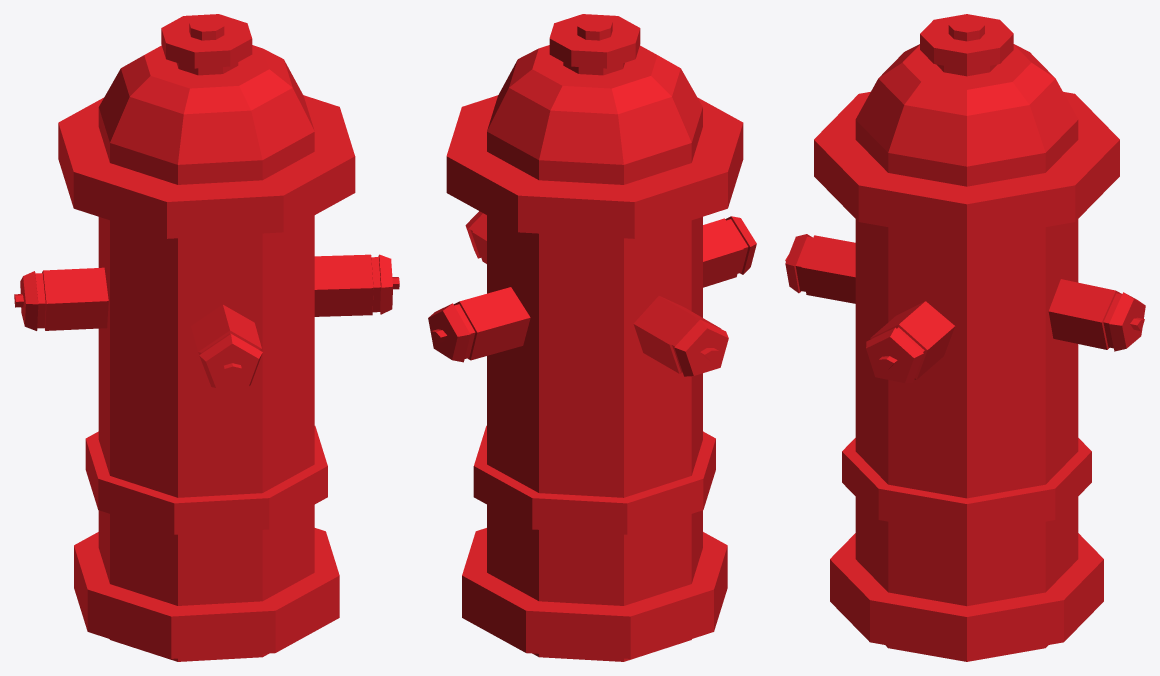
File: FireHydrant.fbx
3 views of the same model, side by side, from view 1: azimuth 30°, elevation 25°; view 2: azimuth 150°, elevation 25°; view 3: azimuth 270°, elevation 25° (orthographic).
Visible parts, largest first — view 1: Cylinder; view 2: Cylinder; view 3: Cylinder.
Part boxes in pixels (left/top/right/bottom): Cylinder: left=14, top=14, right=399, bottom=661; Cylinder: left=428, top=14, right=756, bottom=661; Cylinder: left=785, top=14, right=1145, bottom=661.
Size of the model in its own units: 101 by 182 by 101.
